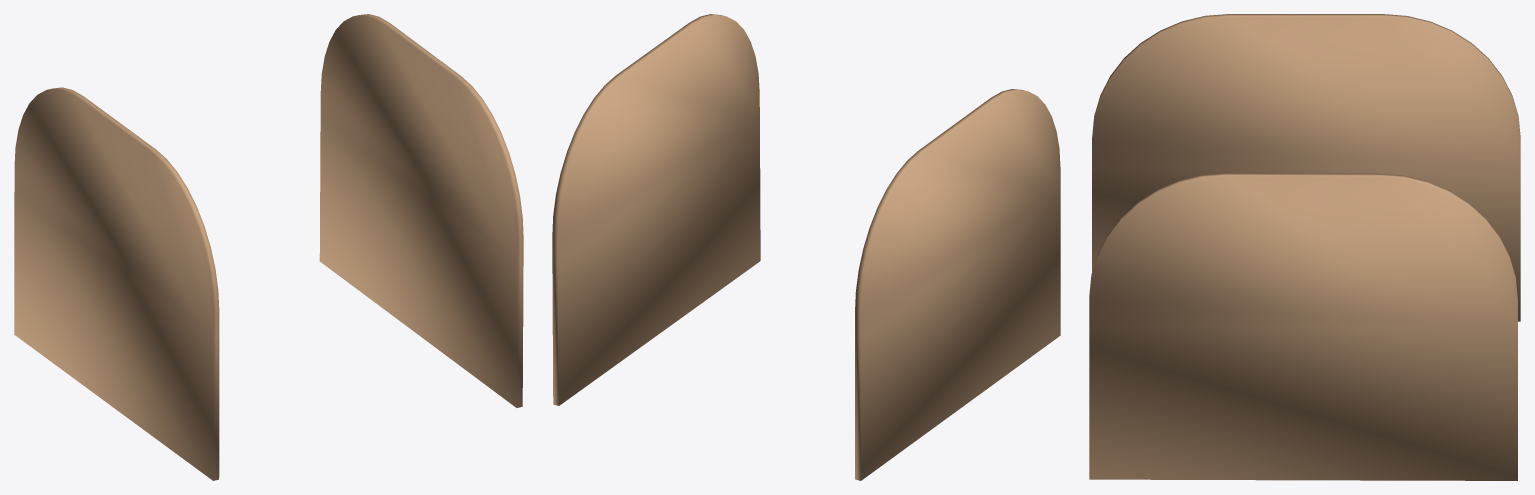
File: cubiculo.002.fbx
3 renders of one model, left to right at view 1: azimuth 30°, elevation 25°; view 2: azimuth 150°, elevation 25°; view 3: azimuth 270°, elevation 25°, orthographic. The views are drawn at different scales.
Visible parts, largest first — view 1: cubiculo.002; view 2: cubiculo.002; view 3: cubiculo.002.
Boxes of the visible parts, left/top/right/bottom form: cubiculo.002: left=14, top=14, right=523, bottom=480; cubiculo.002: left=552, top=14, right=1060, bottom=480; cubiculo.002: left=1089, top=14, right=1520, bottom=480.
Bounding box in the file's own units: 2.3 × 2 × 2.57.
